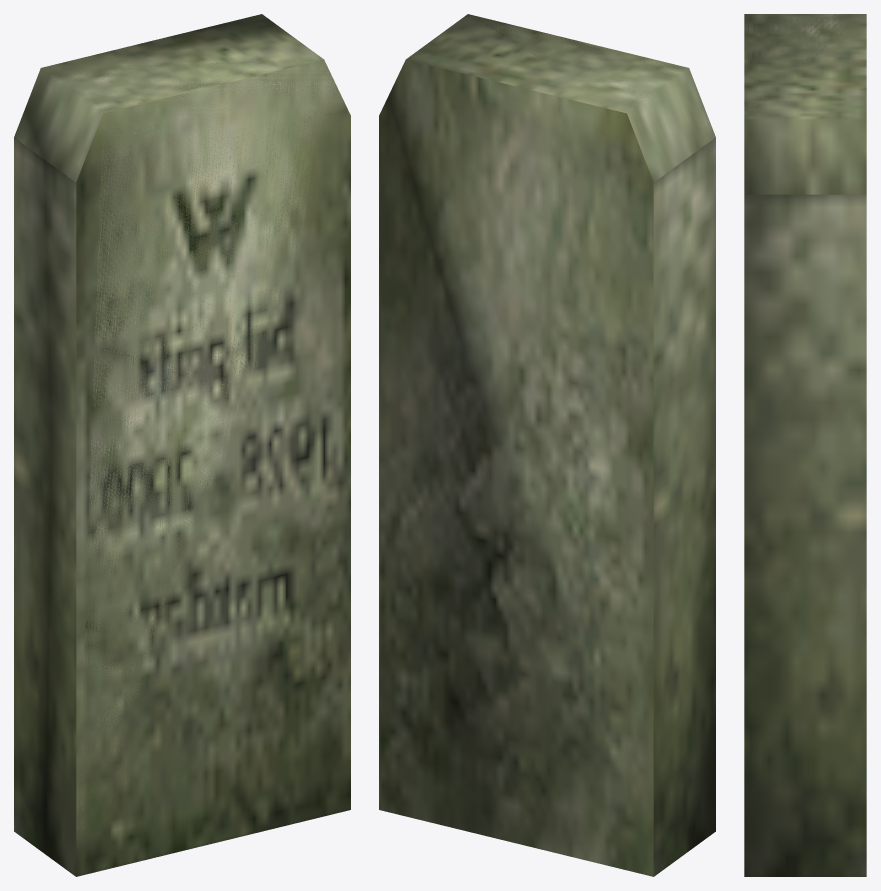
The model's file is stst46.dae.
The picture shows the model from 3 angles, left to right: view 1: azimuth 30°, elevation 25°; view 2: azimuth 150°, elevation 25°; view 3: azimuth 270°, elevation 25°; orthographic projection.
Parts seen in each view (by area): view 1: rip1, rip2; view 2: rip1, rip2; view 3: rip1, rip2.
Boxes of the visible parts, left/top/right/bottom form: rip1: left=14, top=14, right=350, bottom=876; rip2: left=16, top=59, right=350, bottom=874; rip1: left=379, top=14, right=715, bottom=876; rip2: left=482, top=19, right=714, bottom=180; rip1: left=744, top=14, right=866, bottom=876; rip2: left=744, top=14, right=863, bottom=108.
Bounding box in the file's own units: 0.1738 × 0.0681 × 0.4576.
1 material, 1 textured.
